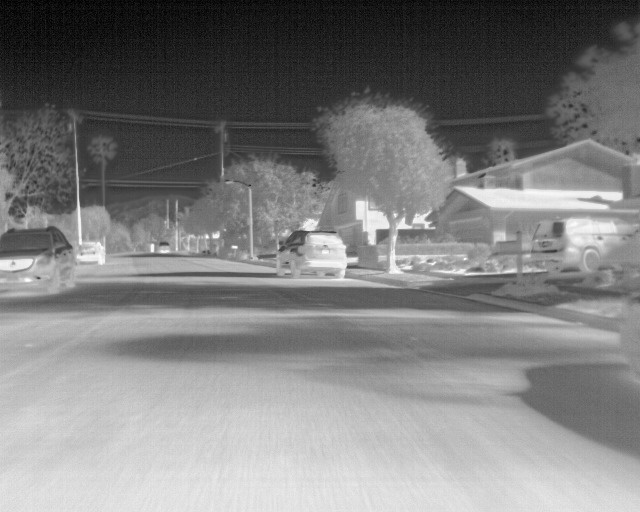vehicle: (1, 226, 78, 302), (533, 216, 638, 268), (281, 229, 348, 281), (77, 240, 107, 267), (156, 242, 173, 254)
